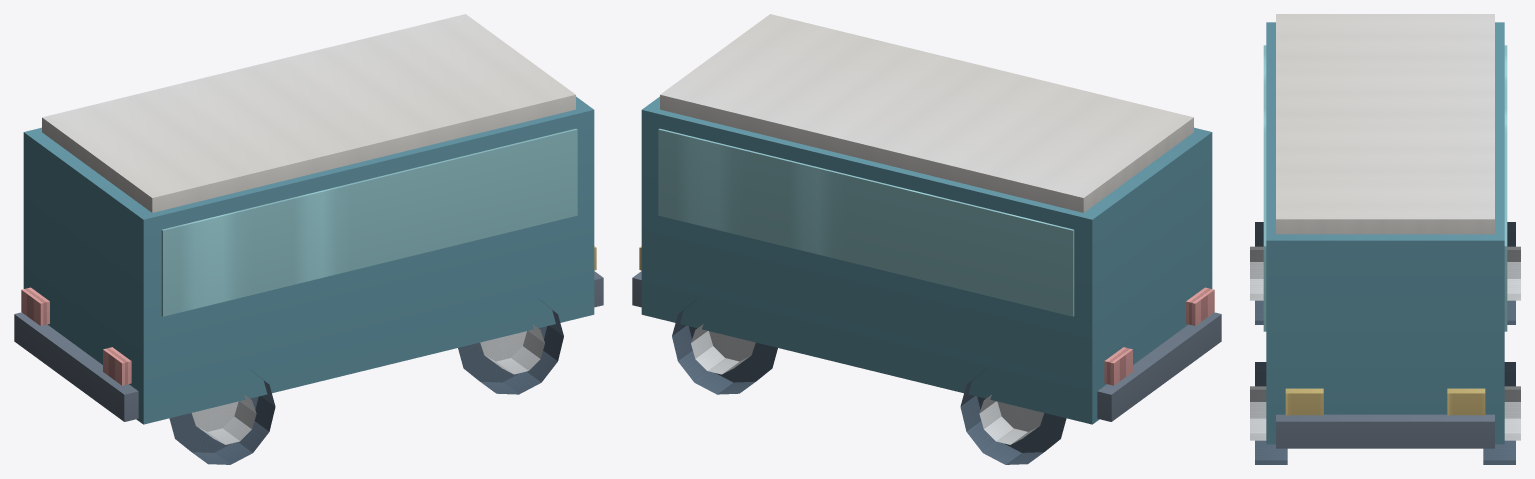
The model's file is angkot.glb.
The picture shows the model from 3 angles, left to right: view 1: azimuth 30°, elevation 25°; view 2: azimuth 150°, elevation 25°; view 3: azimuth 270°, elevation 25°; orthographic projection.
Visible parts, largest first — view 1: angkot; view 2: angkot; view 3: angkot.
Part boxes in pixels (box(x1,y1,x2,y2)): angkot: box(14, 14, 603, 464); angkot: box(632, 14, 1221, 464); angkot: box(1250, 14, 1520, 464).
Bounding box in the file's own units: 4.04 × 2.22 × 1.99.
1 material, 1 textured.
